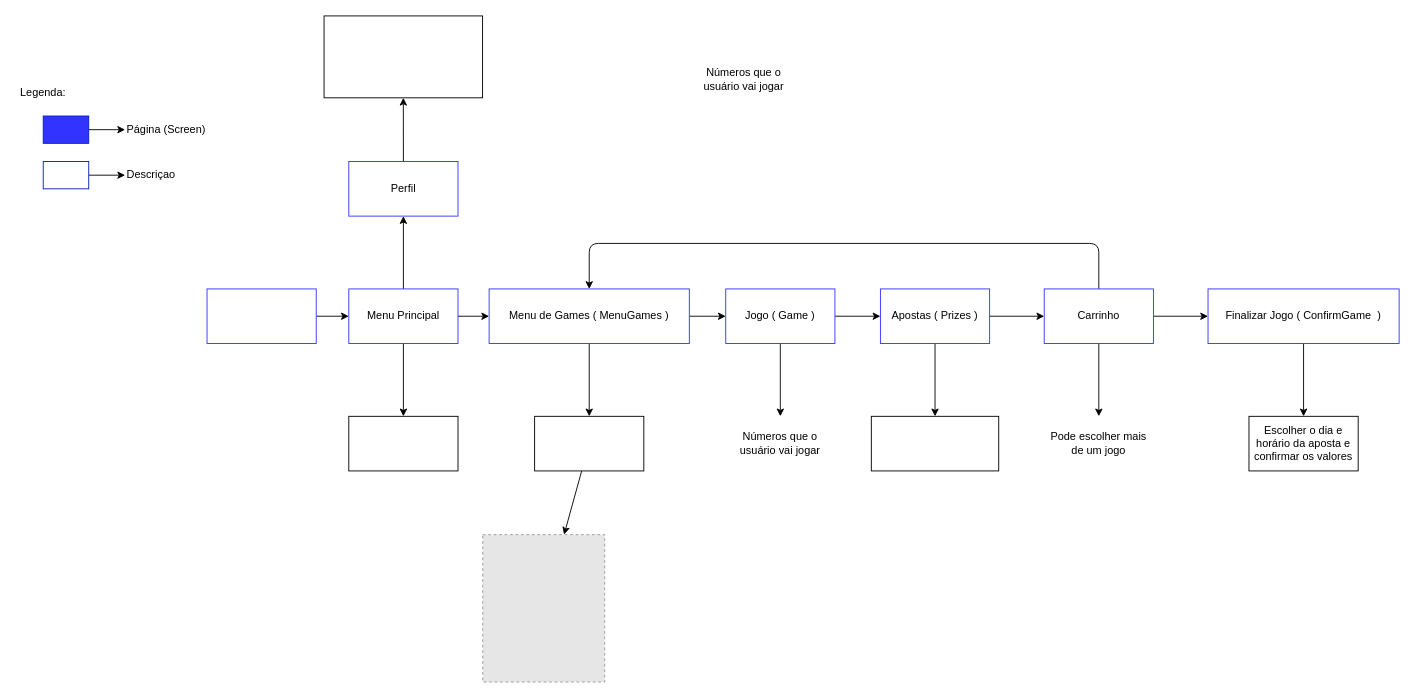
The diagram is 1415 pixels wide and 698 high, and some of its shapes have lost their labels. Grey dashed boxes stand in for pictures. Here are the shapes that lost their labels. From the top down, the box of each, then its label:
(323, 15, 483, 98): Página onde o usuário poderá somente visualizar suas informaçoes de login
(206, 288, 316, 344): Login
(348, 415, 458, 471): Contém opçoes como ir para o perfil, jogar games ou sair do app
(534, 415, 644, 471): LIsta de Jogos que o usuário pode escollher para jogar
(870, 415, 999, 471): Valores que o usuário vai apostar
